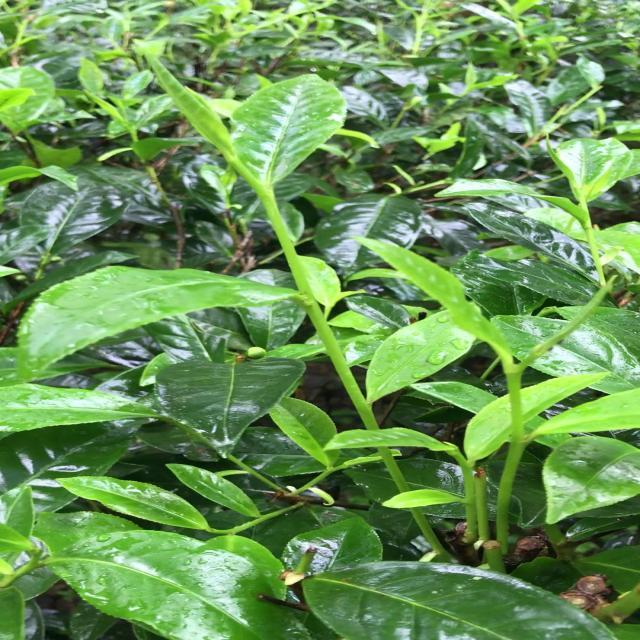Stem: (507, 364, 522, 381), (262, 191, 275, 207), (463, 462, 473, 478), (327, 468, 334, 471)
